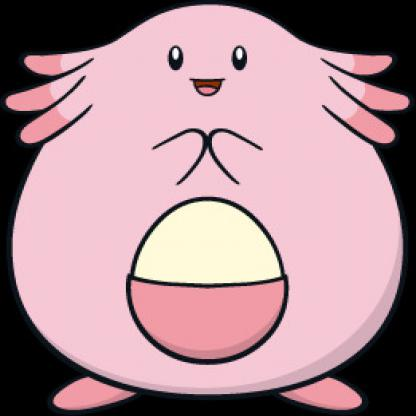Chansey: (1, 1, 416, 416)
